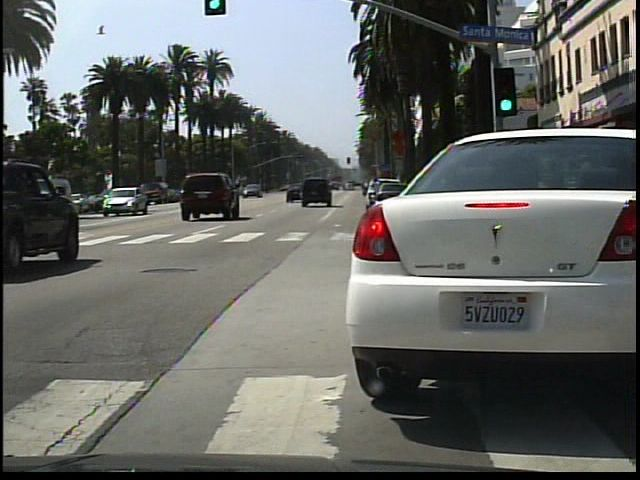car: (347, 125, 640, 441), (3, 153, 81, 267), (180, 171, 243, 223), (97, 184, 146, 216), (302, 175, 332, 209), (242, 182, 264, 198), (286, 183, 302, 204)
striscie pedonali: (12, 374, 639, 473), (82, 230, 349, 248)
